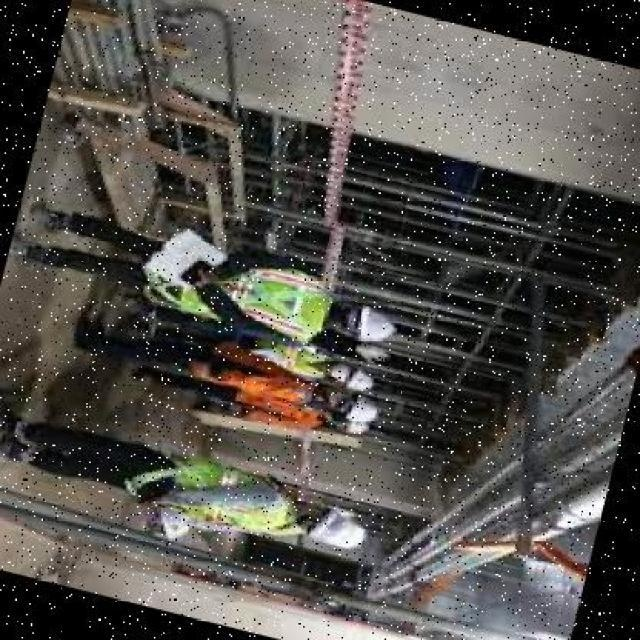Arnes_seguridad: (129, 226, 334, 349), (105, 434, 302, 540)
